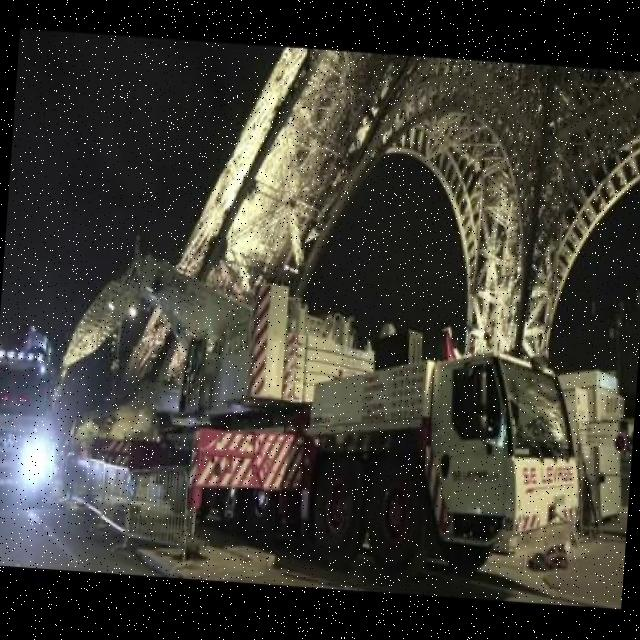Mobile Crane: (46, 243, 602, 588)
